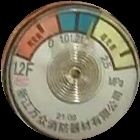green: (58, 9, 97, 38)
needle: (85, 17, 96, 57)
red: (16, 15, 62, 63)
yellow: (96, 22, 136, 70)
